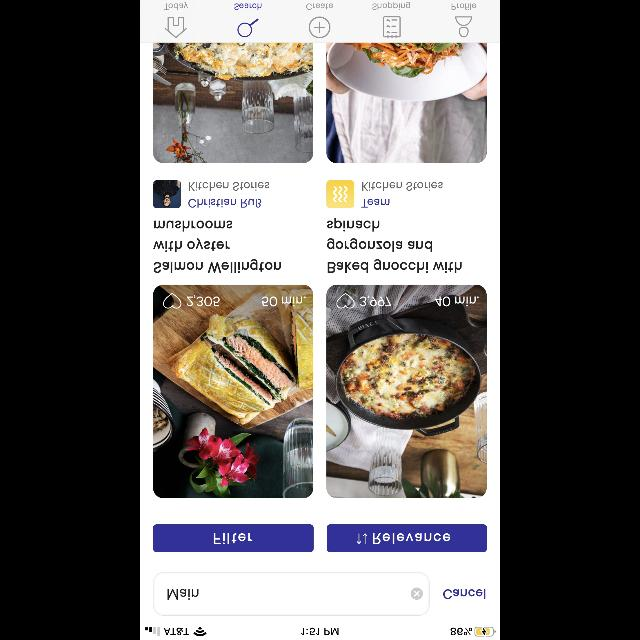icon: (165, 17, 187, 39), (309, 17, 331, 39), (238, 18, 258, 38), (383, 16, 401, 38), (454, 16, 472, 38), (164, 293, 182, 309), (337, 293, 355, 309), (411, 587, 423, 599)
image: (153, 284, 313, 498), (327, 284, 487, 498), (153, 43, 313, 163), (327, 43, 487, 163), (153, 180, 181, 208), (327, 180, 355, 208)
input: (154, 572, 430, 616)
text: (326, 218, 462, 272), (154, 220, 280, 274), (189, 182, 269, 192), (362, 182, 442, 192), (188, 198, 262, 208), (262, 296, 306, 306), (435, 296, 479, 306), (443, 589, 485, 599), (187, 295, 220, 307), (360, 295, 392, 307), (168, 588, 198, 600), (372, 2, 410, 10), (362, 198, 390, 208), (164, 2, 188, 10), (234, 4, 262, 10), (306, 4, 334, 10), (452, 4, 476, 10)
textbutton: (154, 524, 314, 552), (327, 524, 487, 552)
uppertaskbar: (140, 626, 500, 640)
